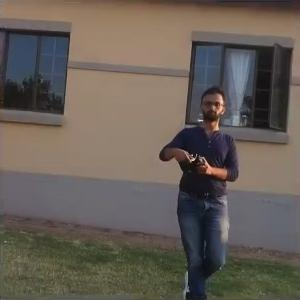follow: (153, 77, 242, 298)
